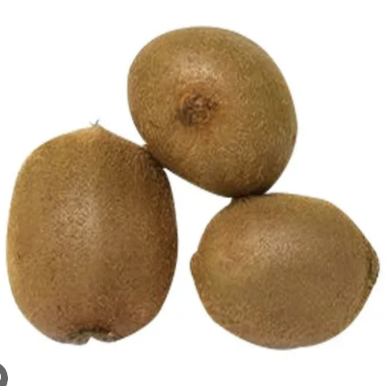kiwi: (0, 108, 186, 366), (114, 12, 316, 213), (180, 193, 379, 370)
